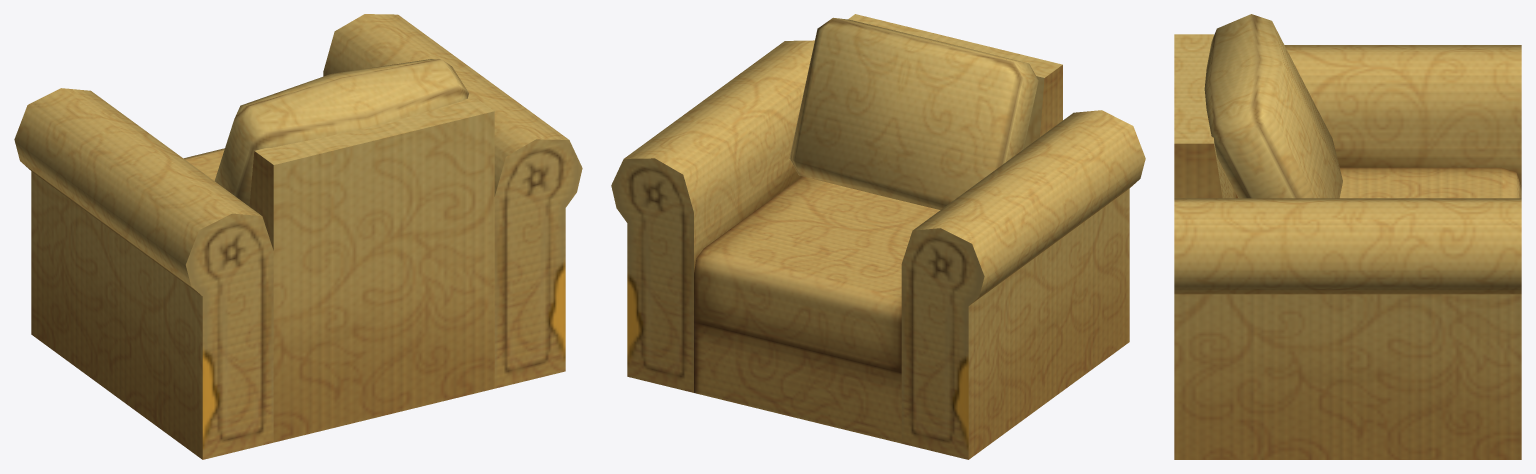
The model's file is FUR0110001.fbx.
The picture shows the model from 3 angles, left to right: view 1: azimuth 30°, elevation 25°; view 2: azimuth 150°, elevation 25°; view 3: azimuth 270°, elevation 25°; orthographic projection. The views are drawn at different scales.
Visible parts, largest first — view 1: smFUR0110001; view 2: smFUR0110001; view 3: smFUR0110001.
Boxes of the visible parts, bbox=[...] form: smFUR0110001: bbox=[14, 14, 582, 459]; smFUR0110001: bbox=[611, 14, 1145, 459]; smFUR0110001: bbox=[1174, 14, 1521, 459].
Bounding box in the file's own units: 161 × 119 × 120.
1 material, 1 textured.
